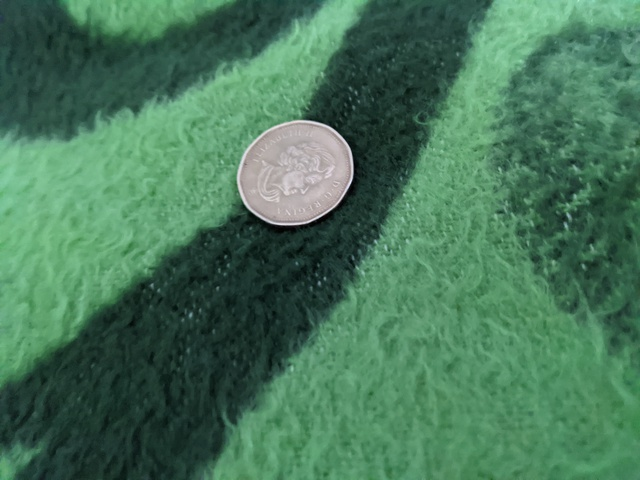loonie: (236, 117, 367, 239)
